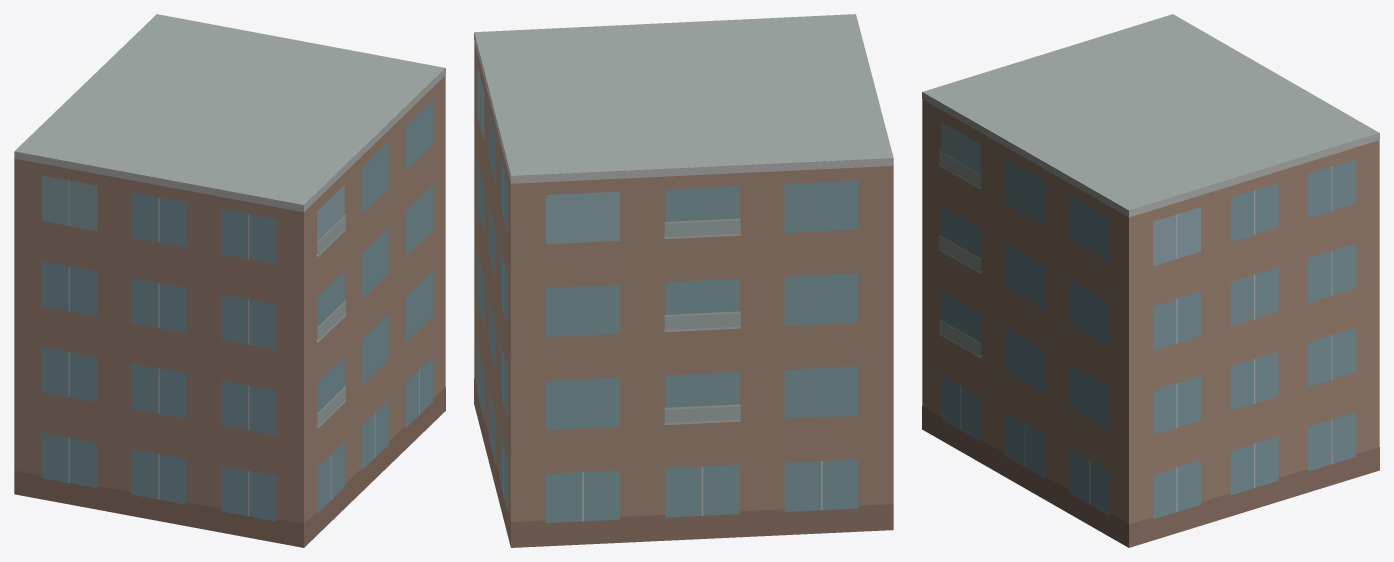
The model's file is survey-upis-32671052.glb.
The picture shows the model from 3 angles, left to right: view 1: azimuth 30°, elevation 25°; view 2: azimuth 150°, elevation 25°; view 3: azimuth 270°, elevation 25°; orthographic projection. The views are drawn at different scales.
Visible parts, largest first — view 1: survey-upis-32671052.tmp; view 2: survey-upis-32671052.tmp; view 3: survey-upis-32671052.tmp.
Part boxes in pixels (x1,y1,x2,y2): survey-upis-32671052.tmp: (14, 14, 445, 547); survey-upis-32671052.tmp: (474, 14, 893, 547); survey-upis-32671052.tmp: (922, 14, 1379, 547).
Bounding box in the file's own units: 14.56 × 11.65 × 14.33.
